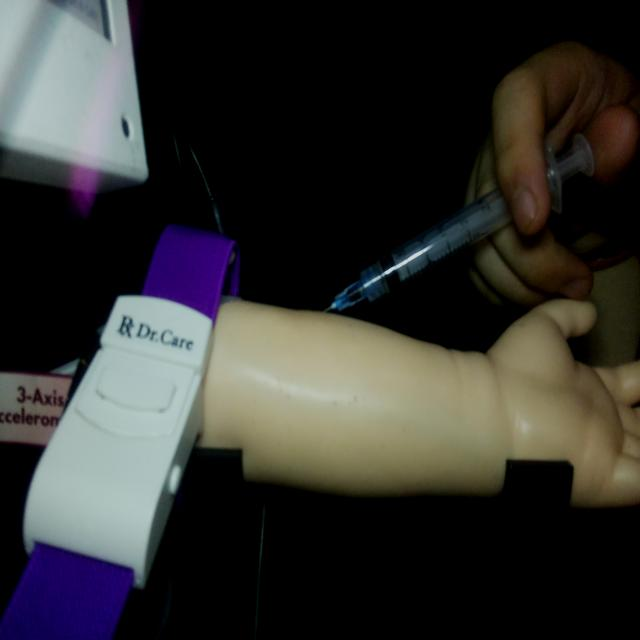24 degrees: (322, 129, 596, 316)
